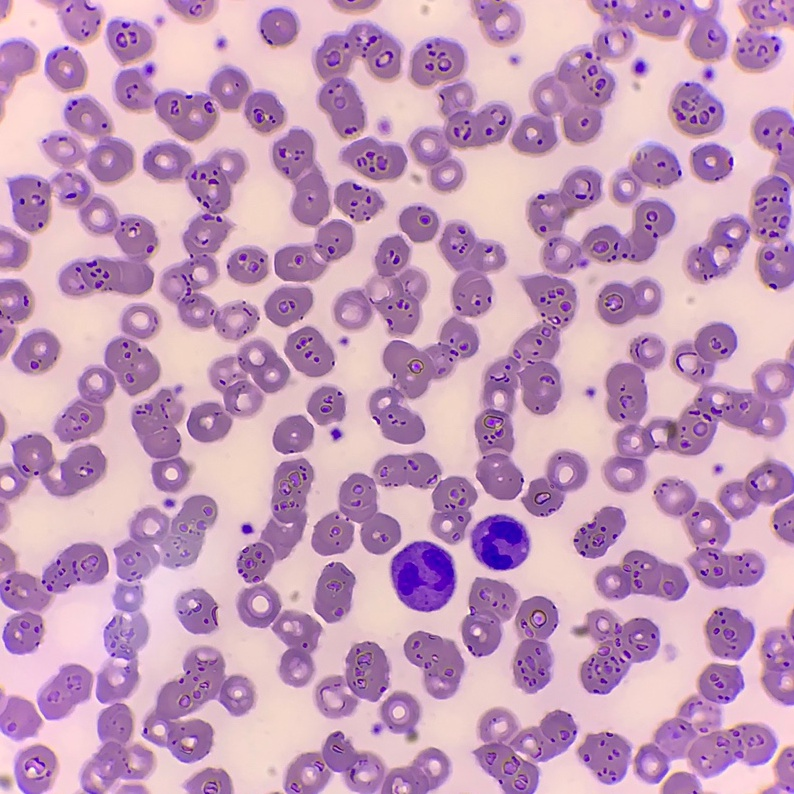RBC: (512, 0, 725, 154), (369, 222, 505, 443), (475, 274, 576, 499), (143, 143, 257, 339), (686, 111, 793, 289), (237, 459, 320, 686), (604, 334, 716, 492), (634, 663, 774, 782), (409, 40, 513, 191), (528, 166, 673, 273), (55, 304, 159, 442), (312, 452, 439, 554), (115, 65, 285, 140), (55, 171, 157, 296), (144, 646, 254, 761), (0, 542, 108, 653), (655, 478, 763, 587), (188, 340, 289, 442), (312, 23, 402, 137), (0, 433, 106, 528), (284, 732, 449, 793), (81, 663, 154, 793), (334, 236, 426, 335), (115, 495, 217, 580), (475, 708, 576, 793), (701, 348, 793, 437), (43, 98, 133, 183), (574, 609, 658, 693), (131, 388, 191, 492), (272, 129, 330, 226), (315, 642, 389, 717), (274, 220, 354, 281), (596, 550, 686, 600), (718, 459, 793, 517), (390, 541, 453, 610), (513, 596, 557, 693), (461, 578, 516, 655), (523, 451, 587, 516), (735, 0, 793, 71), (404, 632, 464, 698), (672, 322, 736, 383), (612, 146, 679, 204), (470, 514, 528, 569), (108, 583, 148, 659), (431, 476, 476, 543), (596, 278, 660, 325), (39, 664, 92, 718), (670, 84, 722, 137), (342, 138, 406, 179), (578, 732, 629, 782), (0, 279, 33, 355), (574, 507, 624, 557), (761, 624, 793, 702), (285, 327, 334, 376), (314, 562, 354, 622), (705, 607, 752, 658), (10, 177, 52, 232), (471, 0, 522, 43), (14, 745, 57, 793), (380, 691, 420, 741), (13, 330, 59, 373), (54, 0, 102, 41), (107, 21, 154, 62), (0, 694, 41, 739), (334, 183, 383, 220), (265, 287, 312, 325), (176, 589, 216, 633), (46, 49, 86, 91), (0, 42, 36, 87), (259, 9, 299, 46), (273, 415, 313, 452), (690, 145, 731, 181), (307, 386, 345, 424), (227, 247, 267, 283), (399, 206, 438, 242), (767, 747, 793, 793), (186, 768, 232, 793), (0, 229, 29, 268), (167, 0, 216, 20), (772, 500, 793, 543), (661, 772, 701, 793), (331, 0, 377, 11), (118, 784, 145, 793), (0, 775, 12, 789), (0, 0, 10, 16), (632, 63, 643, 75), (379, 121, 389, 132), (216, 39, 225, 48), (242, 523, 251, 532), (0, 418, 5, 433), (510, 55, 518, 63)
